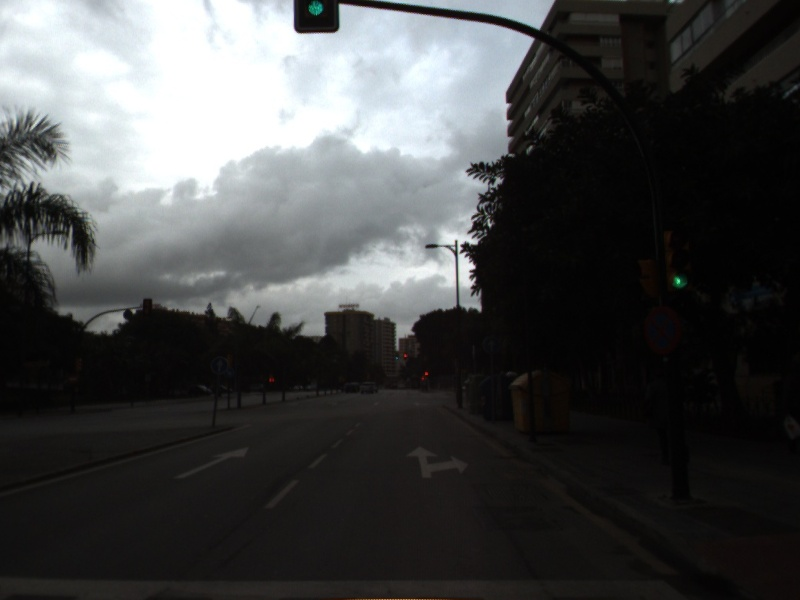STRAIGHT: (169, 444, 252, 482)
STRAIGHT_RIGHT: (403, 443, 472, 481)
